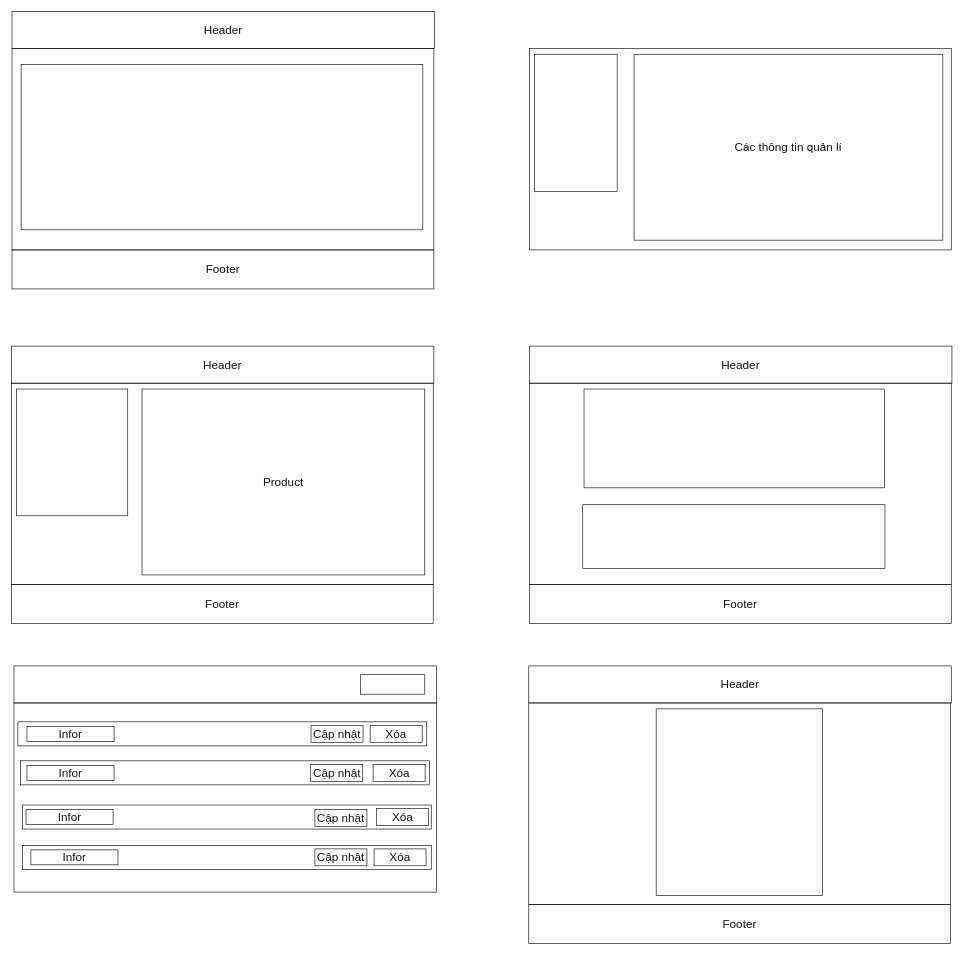
Some shapes in this 963 by 955 pixel diagram are drawn without their labels. The shapes that lost their labels are listed below. From the top down, each one's box as (x1, y1, x2, y2) in pixels, then its label:
(534, 54, 617, 191): Các danh mục quản lý
(20, 64, 423, 230): Content
(16, 388, 128, 516): Category
(583, 388, 884, 488): product image
(582, 504, 885, 568): desciption
(360, 674, 425, 694): Thêm
(656, 708, 823, 895): booking form
